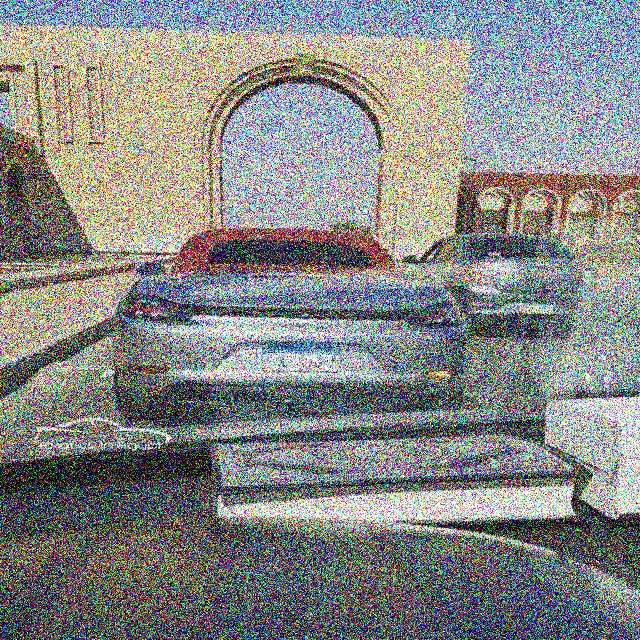License Plate: (259, 339, 343, 374)
